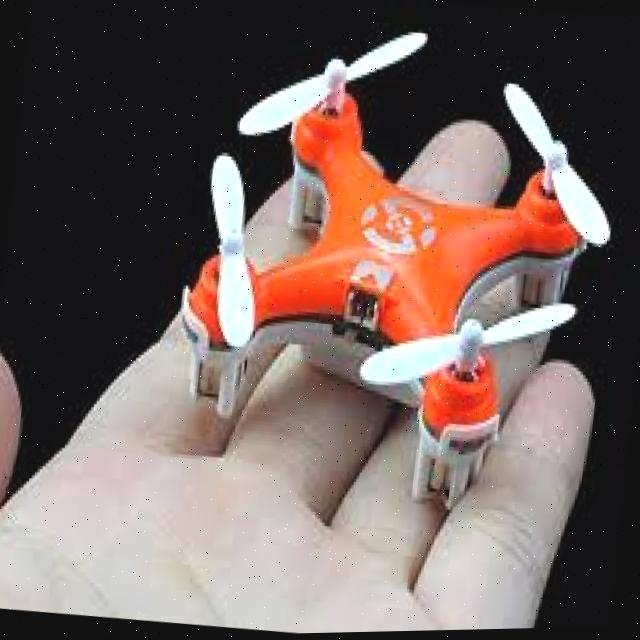drone: (173, 0, 634, 529)
